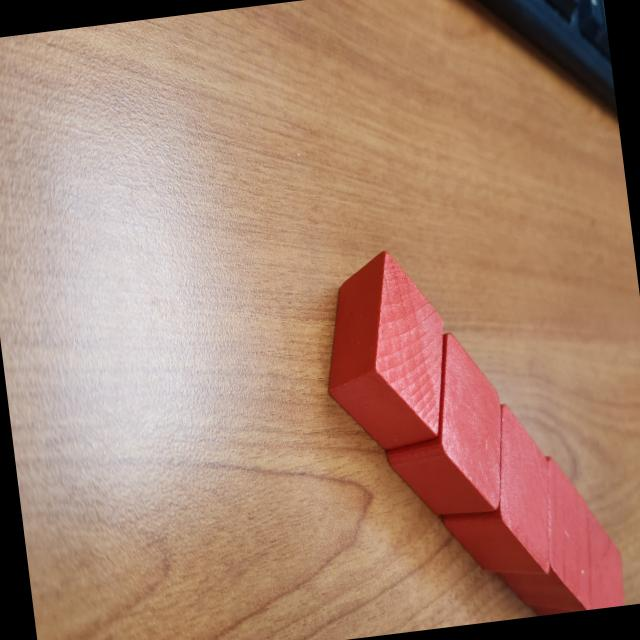red: (310, 243, 458, 457), (370, 324, 514, 522), (429, 398, 563, 583), (482, 450, 600, 616), (576, 501, 628, 609)
